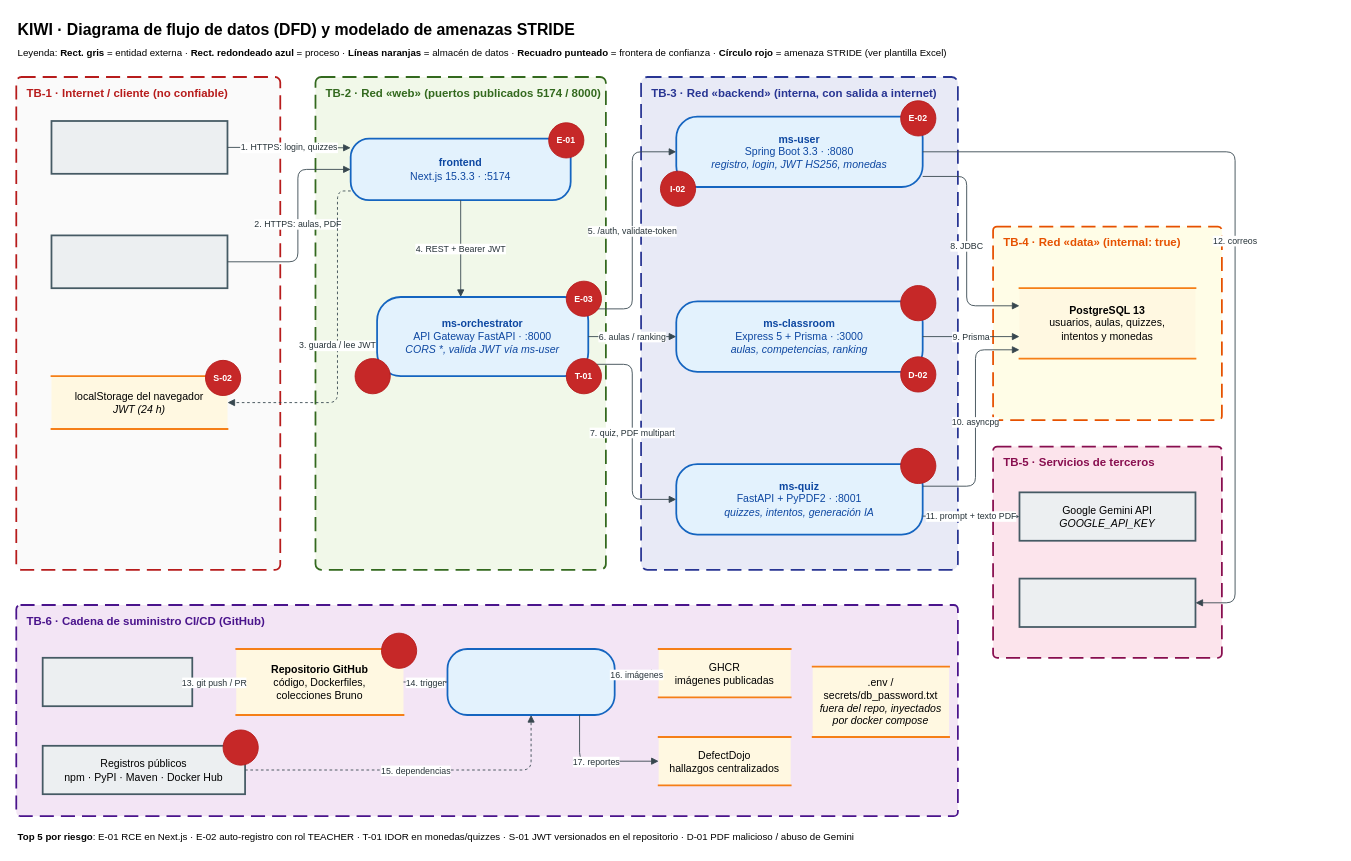
Some shapes in this 1351 by 861 pixel diagram are drawn without their labels. Each missing label, with the centre of its shape:
"D-01" goes at pixel 918 465.
"Desarrollador (3 integrantes)" goes at pixel 117 681.
"Docente (navegador)" goes at pixel 139 261.
"Estudiante (navegador / celular)" goes at pixel 139 147.
"GitHub Actions pipeline DevSecOps secrets del repo" goes at pixel 530 681.
"Gmail SMTP MAIL_PASSWORD" goes at pixel 1107 602.
"I-01" goes at pixel 372 376.
"R-01" goes at pixel 918 303.
"S-01" goes at pixel 399 650.
"T-02" goes at pixel 240 747.
